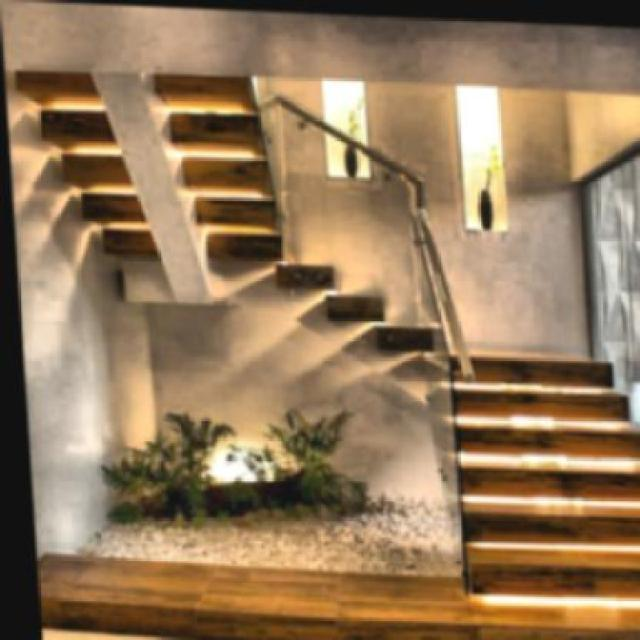stair: (416, 252, 638, 597)
